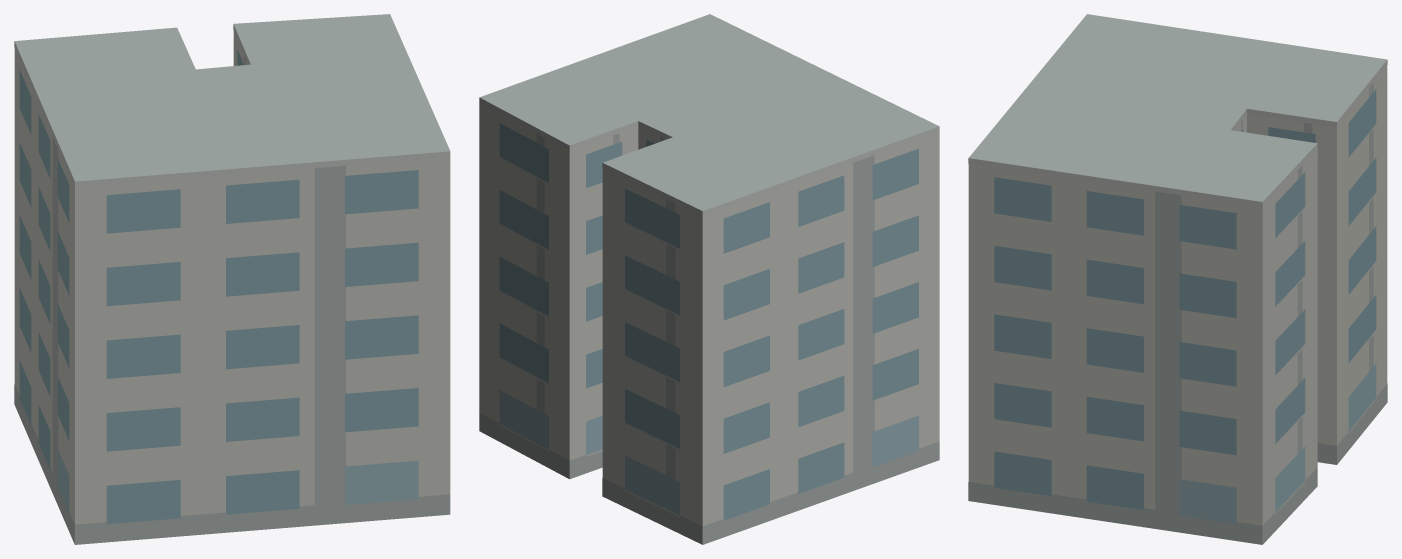
The model's file is survey-upis-32943287.glb.
3 views of the same model, side by side, from view 1: azimuth 30°, elevation 25°; view 2: azimuth 150°, elevation 25°; view 3: azimuth 270°, elevation 25° (orthographic). The views are drawn at different scales.
Visible parts, largest first — view 1: survey-upis-32943287.tmp; view 2: survey-upis-32943287.tmp; view 3: survey-upis-32943287.tmp.
Boxes of the visible parts, box(x1,y1,x2,y2) form: survey-upis-32943287.tmp: box(14, 14, 450, 544); survey-upis-32943287.tmp: box(479, 14, 939, 544); survey-upis-32943287.tmp: box(968, 14, 1387, 544).
Size of the model in its own units: 17.7 by 15.05 by 16.68.
